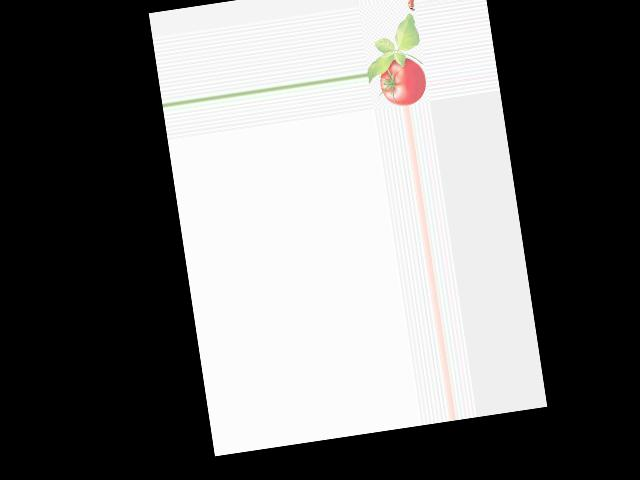tomato: (377, 55, 429, 108)
